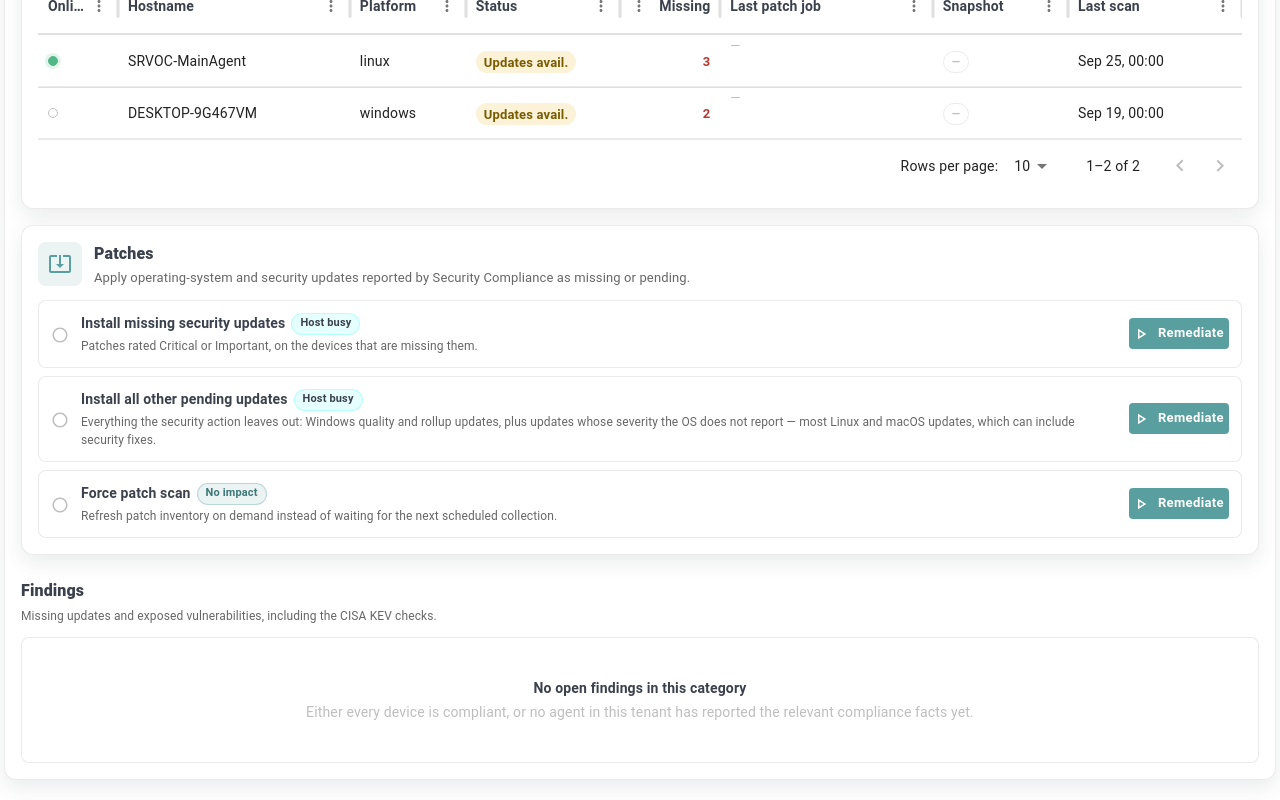
Test: Patch Management — acciones de flota › 🔴 «Force patch scan» pregunta, dice a cuántos, y cancelar no manda nada
(page scrolled)
Expected: the text "SRVOC-MainAgent" is shown, [118, 35, 350, 87]
Click the button "Remediate" in the row of "No impact": (1179, 504) [1129, 488, 1229, 519]
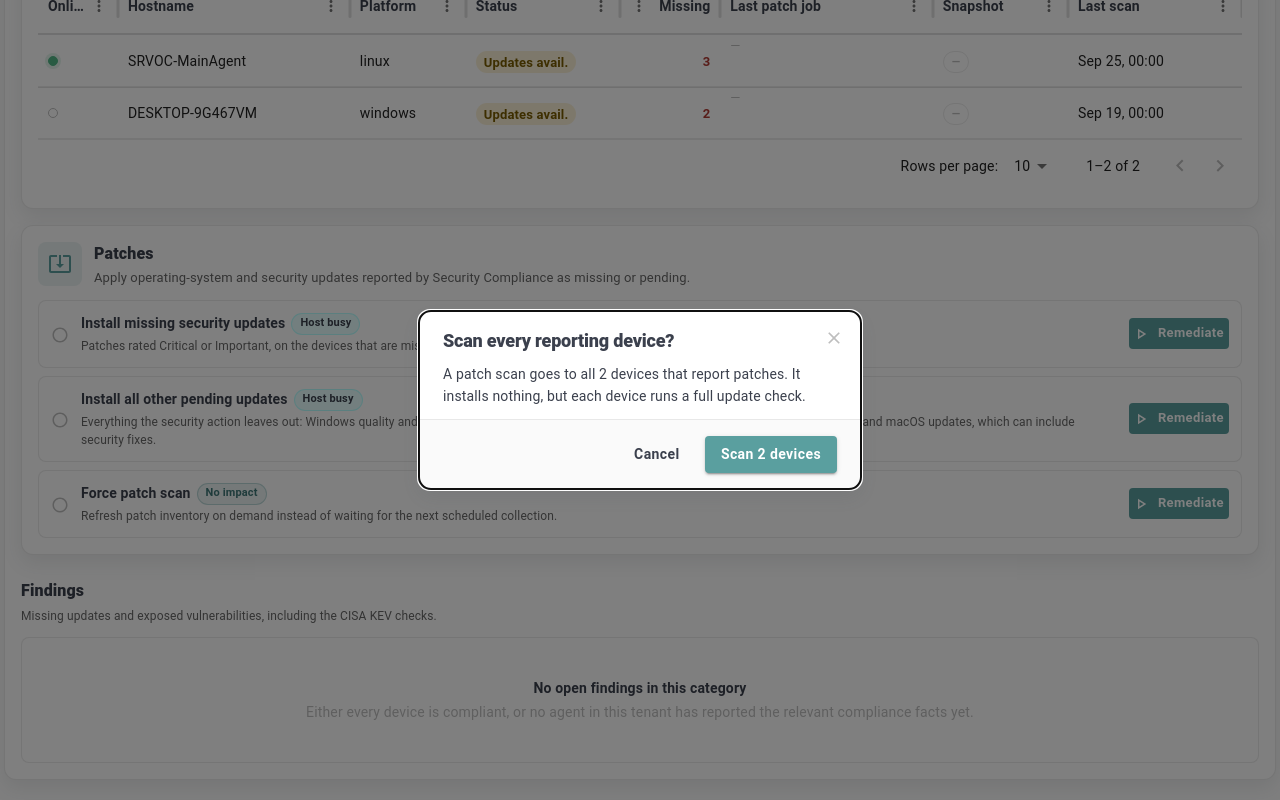
Expected: the text "goes to all 2 devices" is shown, [443, 366, 806, 404]
Click the button "Cancel": (657, 455) [625, 436, 689, 473]
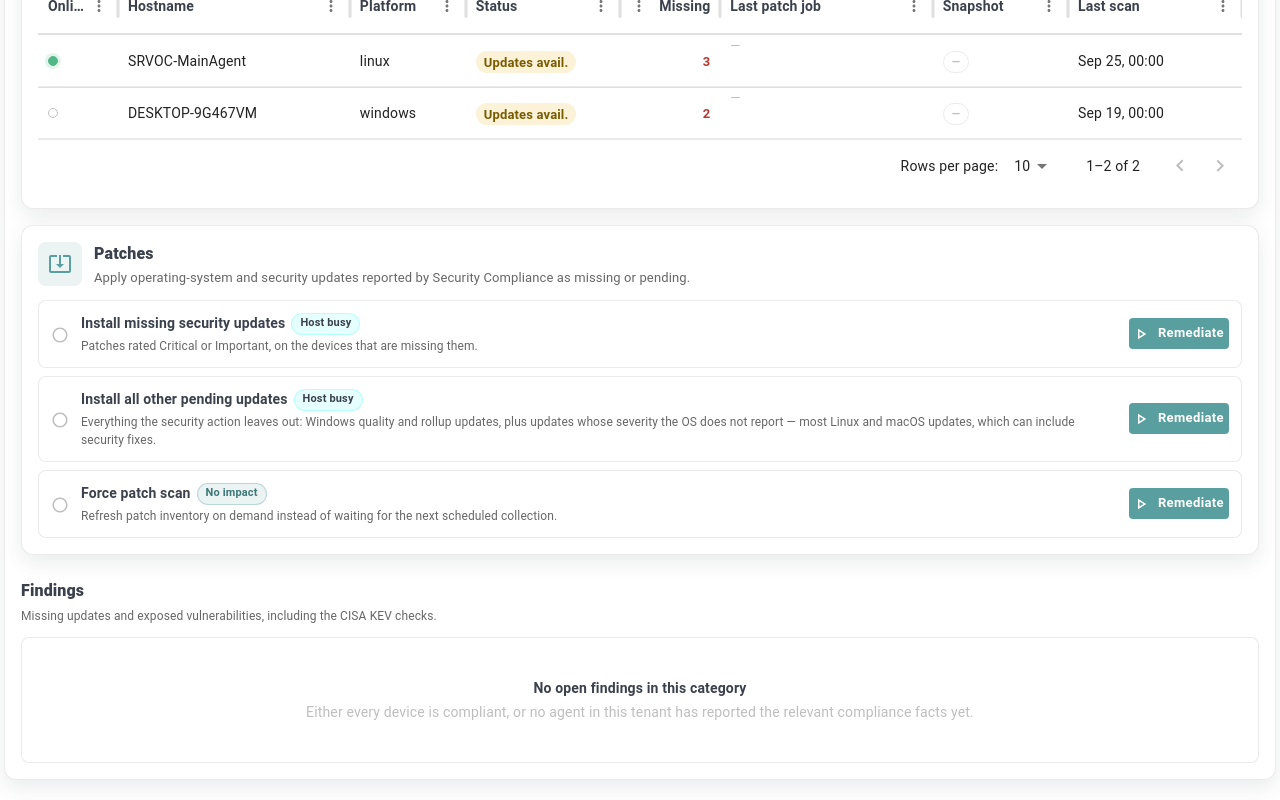
Expected: the dialog is gone
